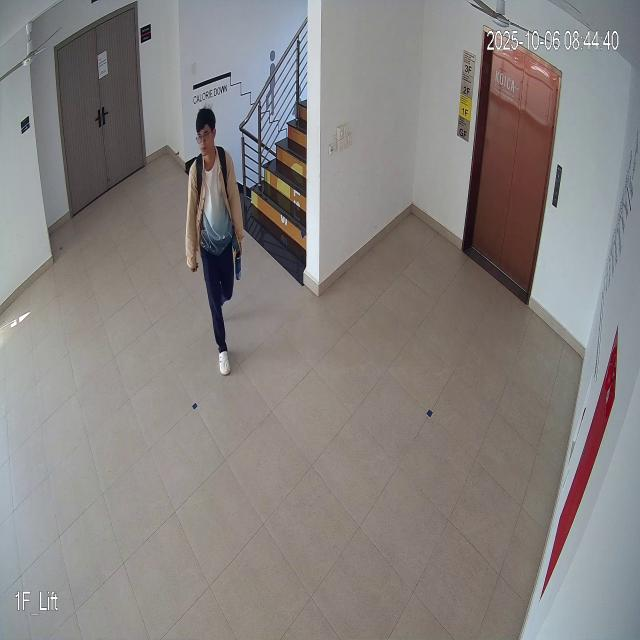face: (193, 102, 222, 168)
